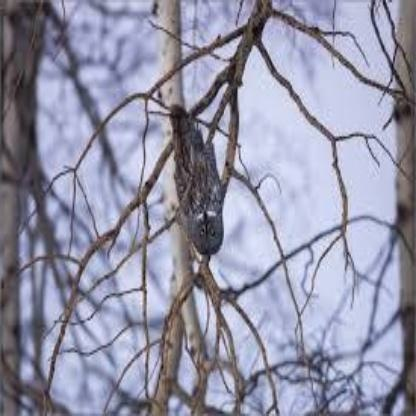Owl: (166, 106, 228, 251)
